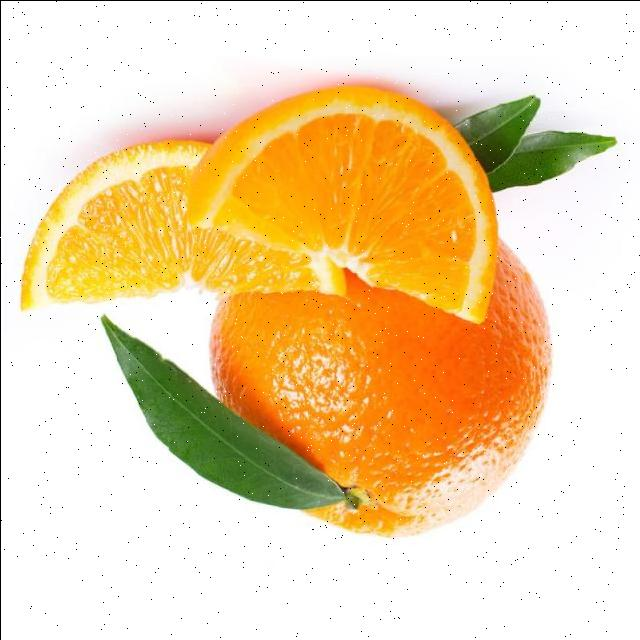Orange: (207, 237, 553, 540), (184, 85, 500, 325), (19, 138, 347, 313)
